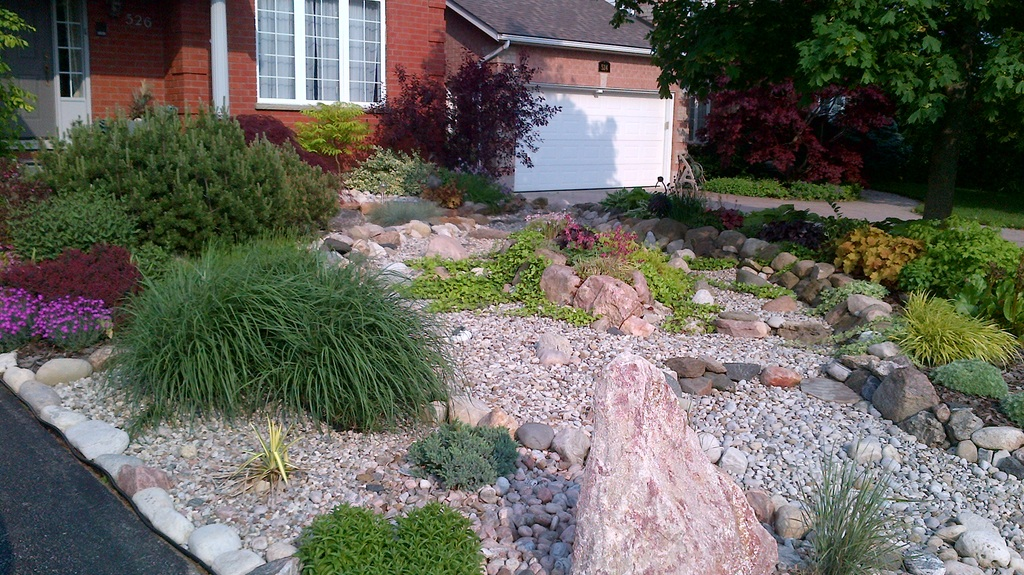Tree: (608, 0, 1023, 227)
